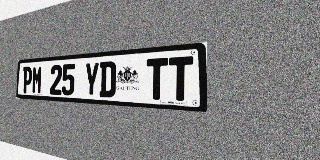2: (50, 64, 62, 95)
5: (62, 64, 75, 96)
D: (99, 61, 116, 98)
M: (32, 66, 42, 94)
P: (22, 66, 32, 94)
T: (168, 56, 193, 101), (146, 58, 168, 100)
Y: (84, 62, 99, 97)
